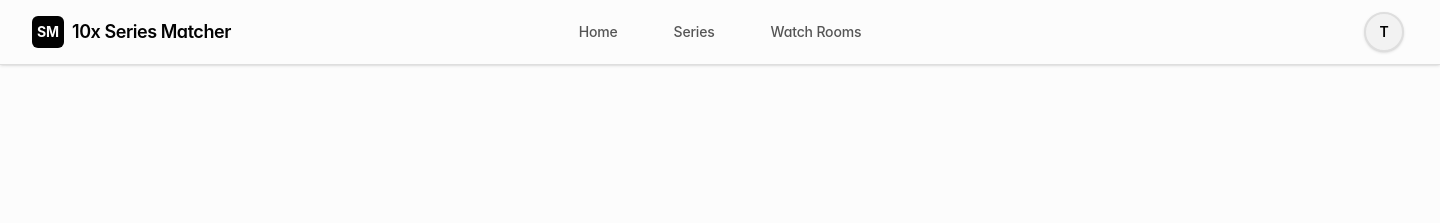
Test case: Header › should open user menu when avatar is clicked
This screenshot has width=1440, height=223.
Click the menu item "T" at (1384, 32), box [1364,12,1404,52]
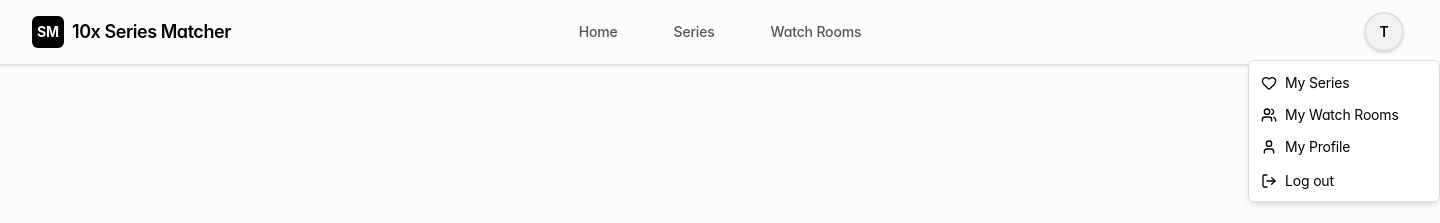
Check: the menu item "My Series" is shown, box [1261,74,1349,91]
Check: the menu item "My Watch Rooms" is shown, box [1261,106,1399,123]
Check: the menu item "My Profile" is shown, box [1261,138,1350,155]
